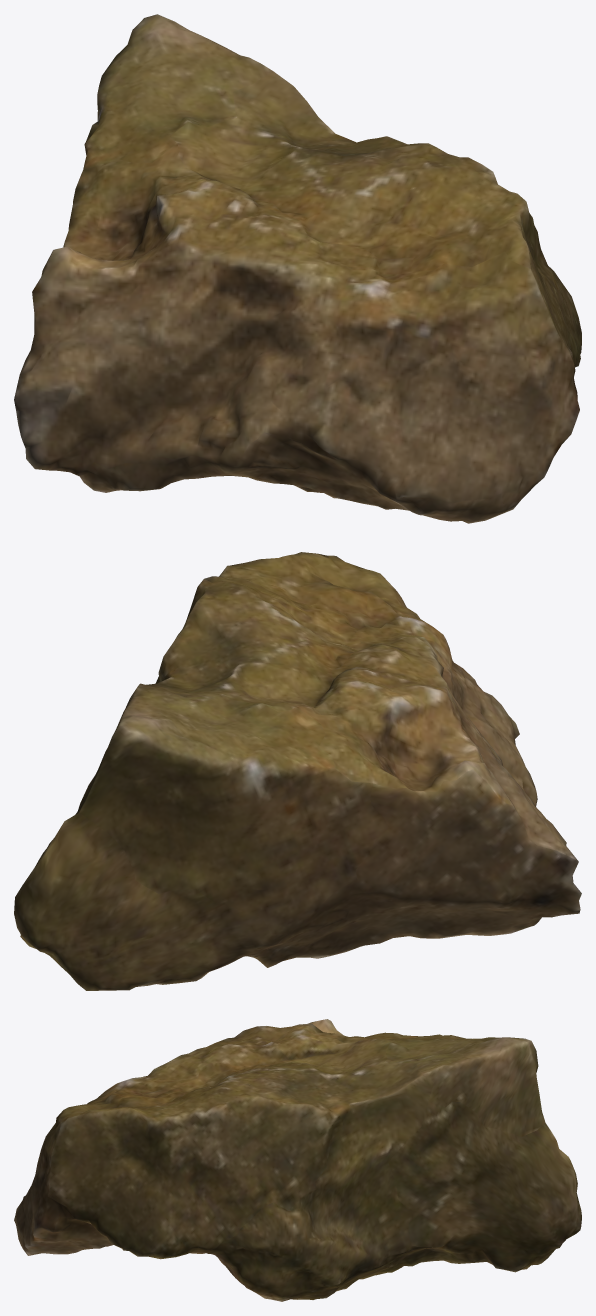
File: rock_06.obj
3 renders of one model, top to bottom at view 1: azimuth 30°, elevation 25°; view 2: azimuth 150°, elevation 25°; view 3: azimuth 270°, elevation 25°, orthographic. The views are drawn at different scales.
Parts seen in each view (by area): view 1: rock_moss_set_01_rock06; view 2: rock_moss_set_01_rock06; view 3: rock_moss_set_01_rock06.
Part boxes in pixels (box(x1,y1,x2,y2)): rock_moss_set_01_rock06: box(14, 14, 581, 523); rock_moss_set_01_rock06: box(14, 552, 581, 990); rock_moss_set_01_rock06: box(14, 1019, 581, 1301).
Size of the model in its own units: 2.13 by 1.26 by 2.76.
1 material, 1 textured.
